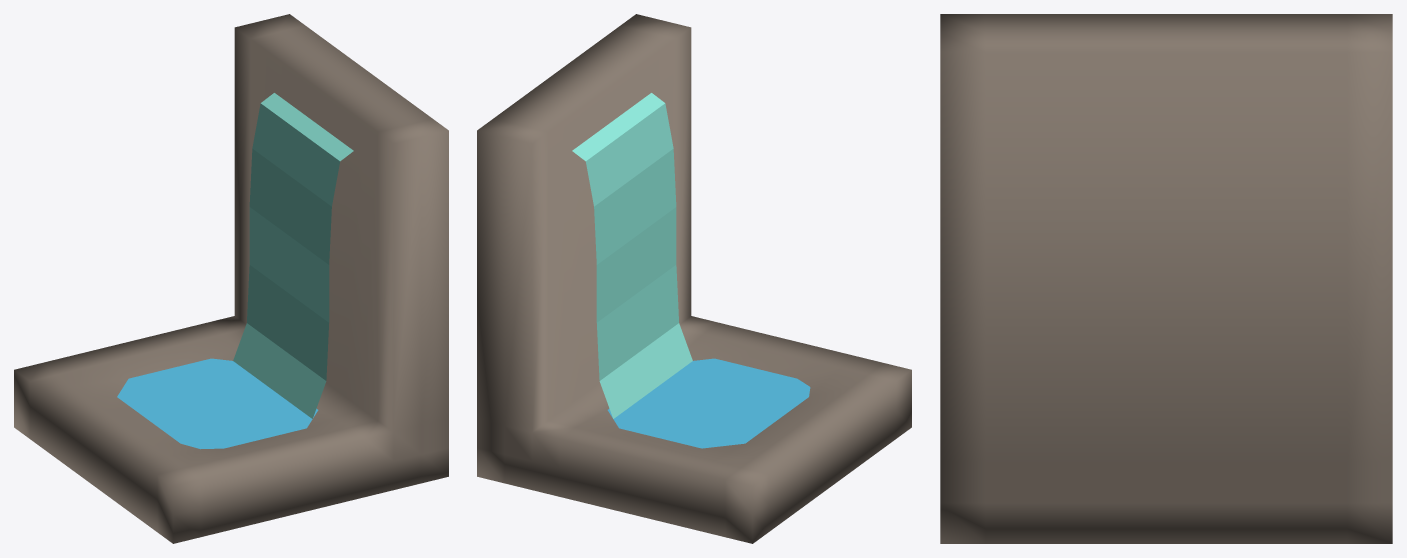
The model's file is waterfall.glb.
The picture shows the model from 3 angles, left to right: view 1: azimuth 30°, elevation 25°; view 2: azimuth 150°, elevation 25°; view 3: azimuth 270°, elevation 25°; orthographic projection. The views are drawn at different scales.
Visible parts, largest first — view 1: RockWall, Waterfall, WaterPlane; view 2: RockWall, Waterfall, WaterPlane; view 3: RockWall.
Part boxes in pixels (x1=…): RockWall: x1=14, y1=14, x2=448, y2=543; Waterfall: x1=233, y1=93, x2=353, y2=418; WaterPlane: x1=117, y1=358, x2=318, y2=449; RockWall: x1=477, y1=14, x2=911, y2=543; Waterfall: x1=572, y1=93, x2=692, y2=418; WaterPlane: x1=607, y1=358, x2=810, y2=448; RockWall: x1=940, y1=14, x2=1392, y2=543.
Size of the model in its own units: 10 by 12 by 10.
